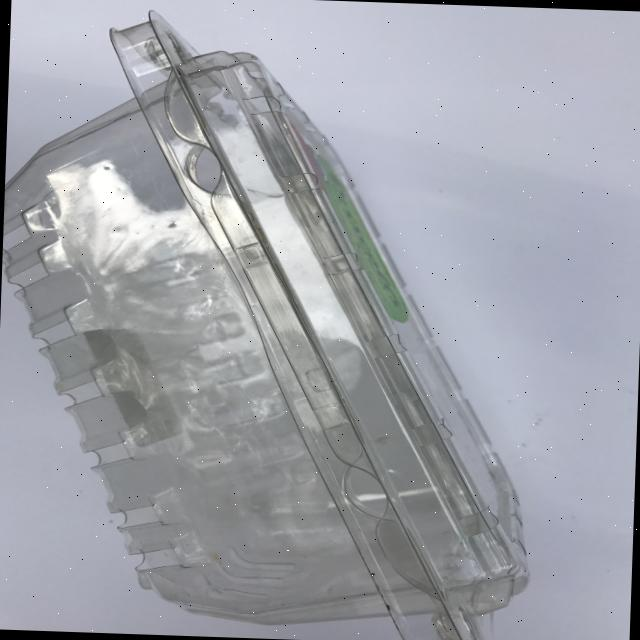plastic: (0, 5, 549, 640)
